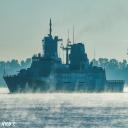Fragata: (3, 19, 127, 96)
